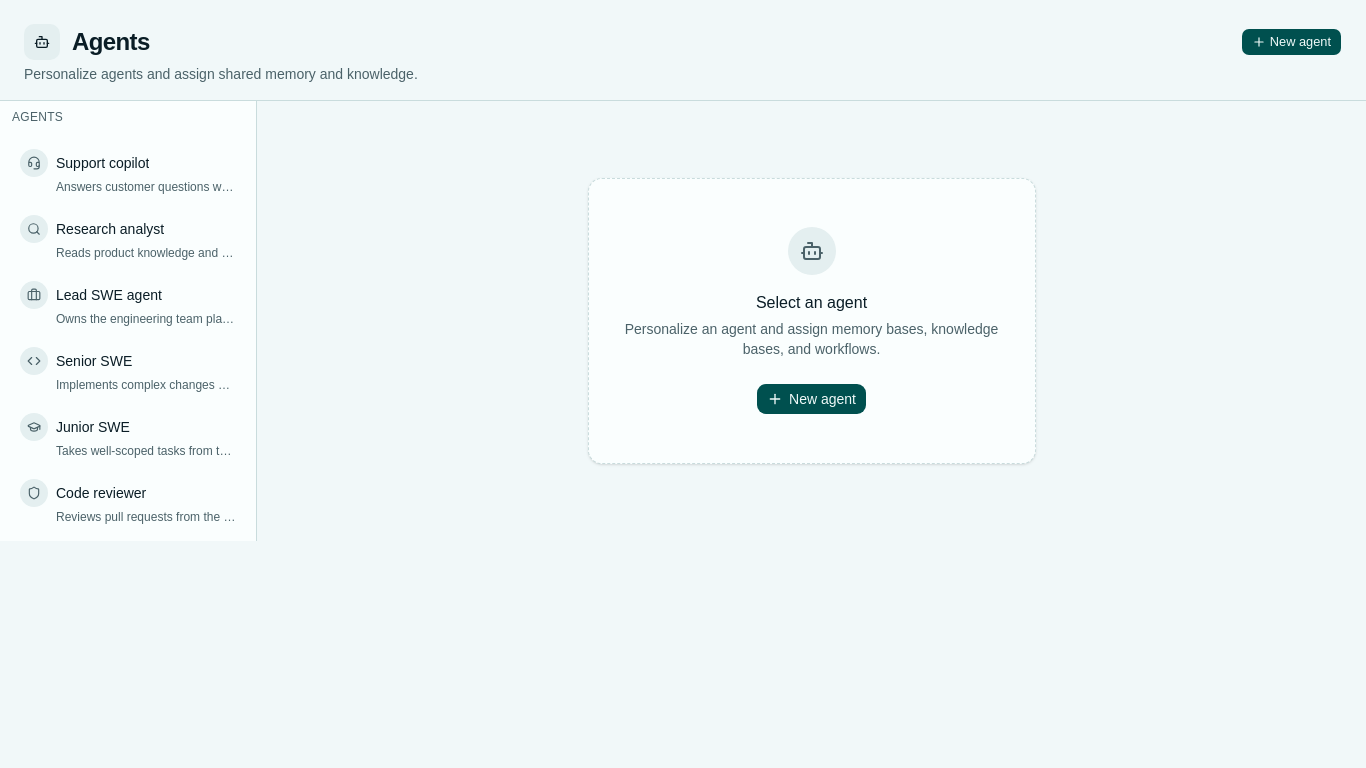
AgentsPage › disables create until a name is entered
The image size is (1366, 768).
Click the 1st button "New agent". click: (1291,42)
box: x1=1241 y1=28 x2=1342 y2=56
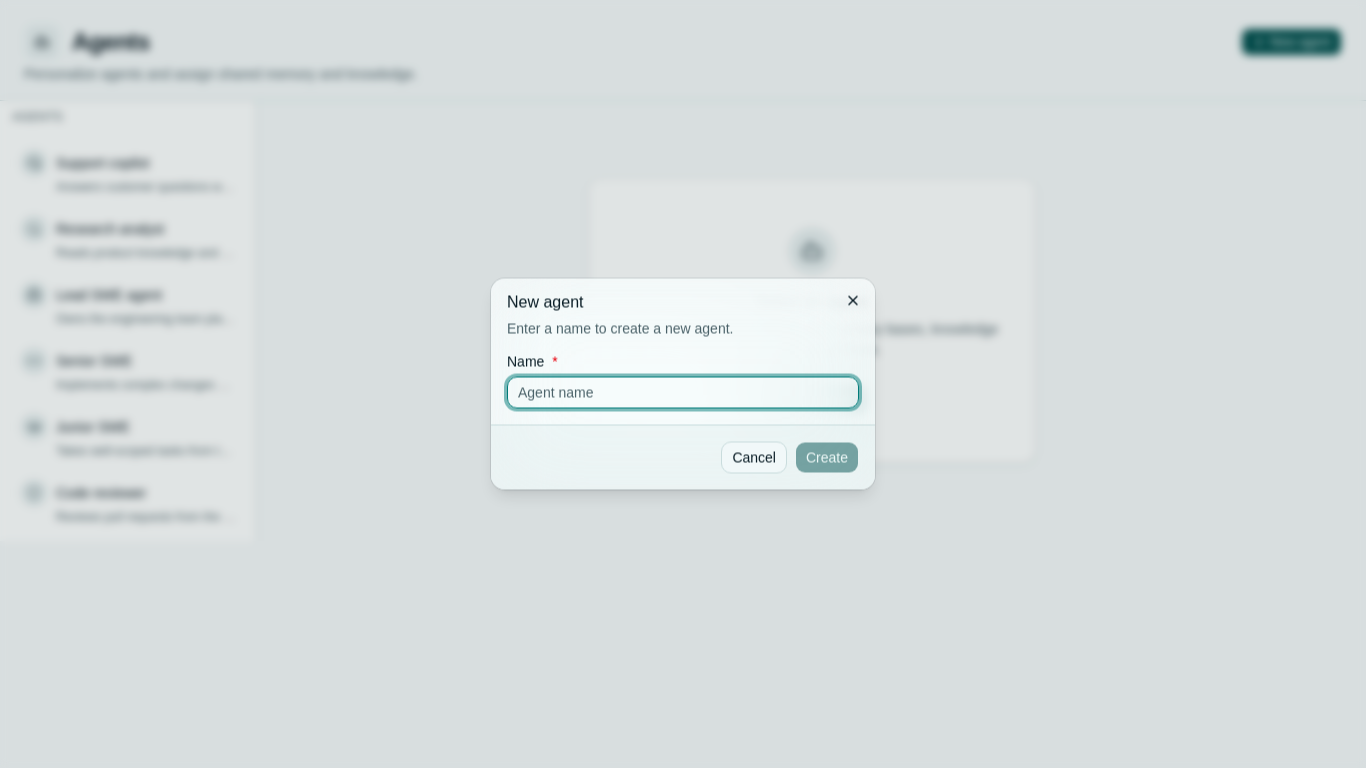
Now the button "Create" is disabled, box x1=795 y1=442 x2=859 y2=474
Type "Ops" into the field labelled "Name *". click: (683,392)
box: x1=507 y1=376 x2=859 y2=408
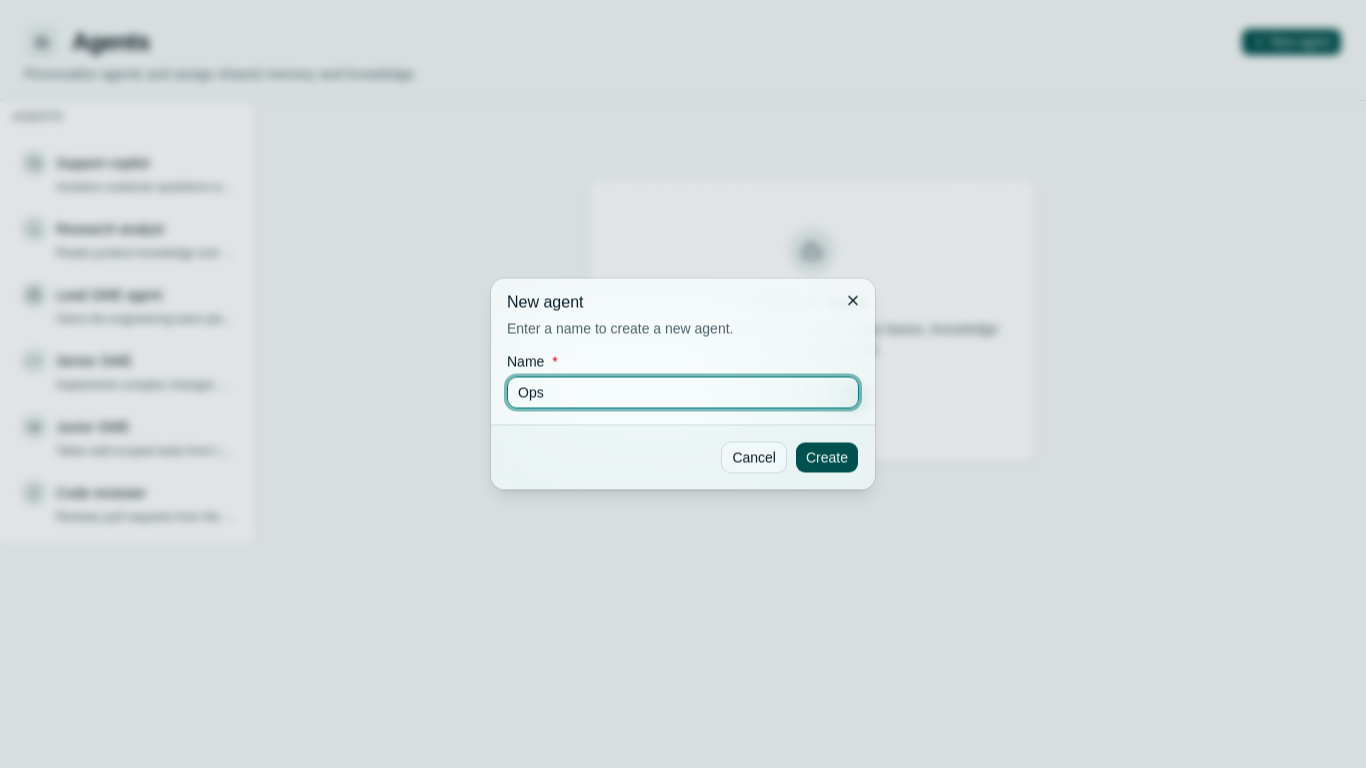
Now the button "Create" is enabled, box x1=795 y1=442 x2=859 y2=474
